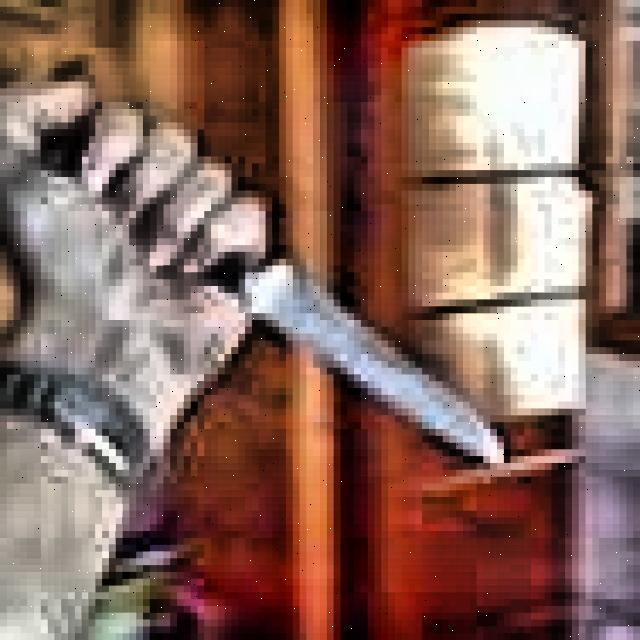knife: (45, 130, 514, 479)
